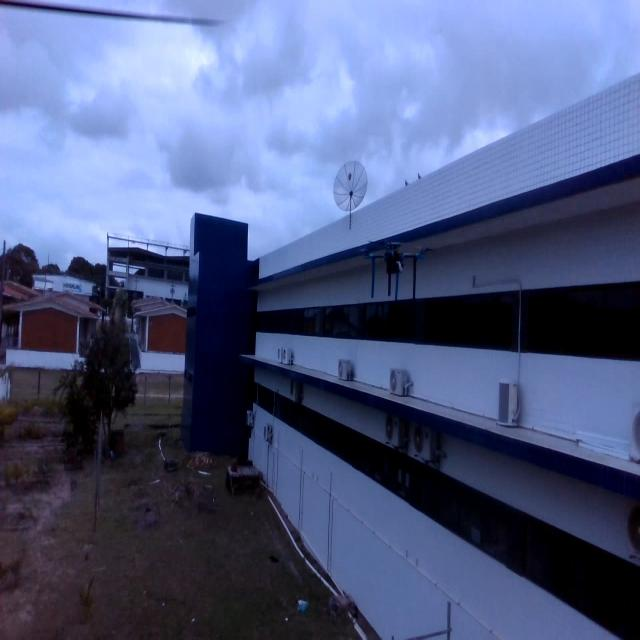-uav-: (353, 232, 437, 310)
